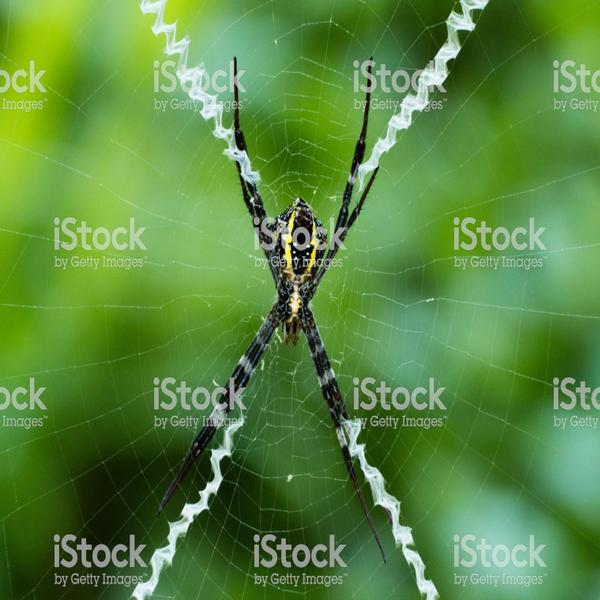St Andrew's Cross Spider: (169, 56, 388, 563)
